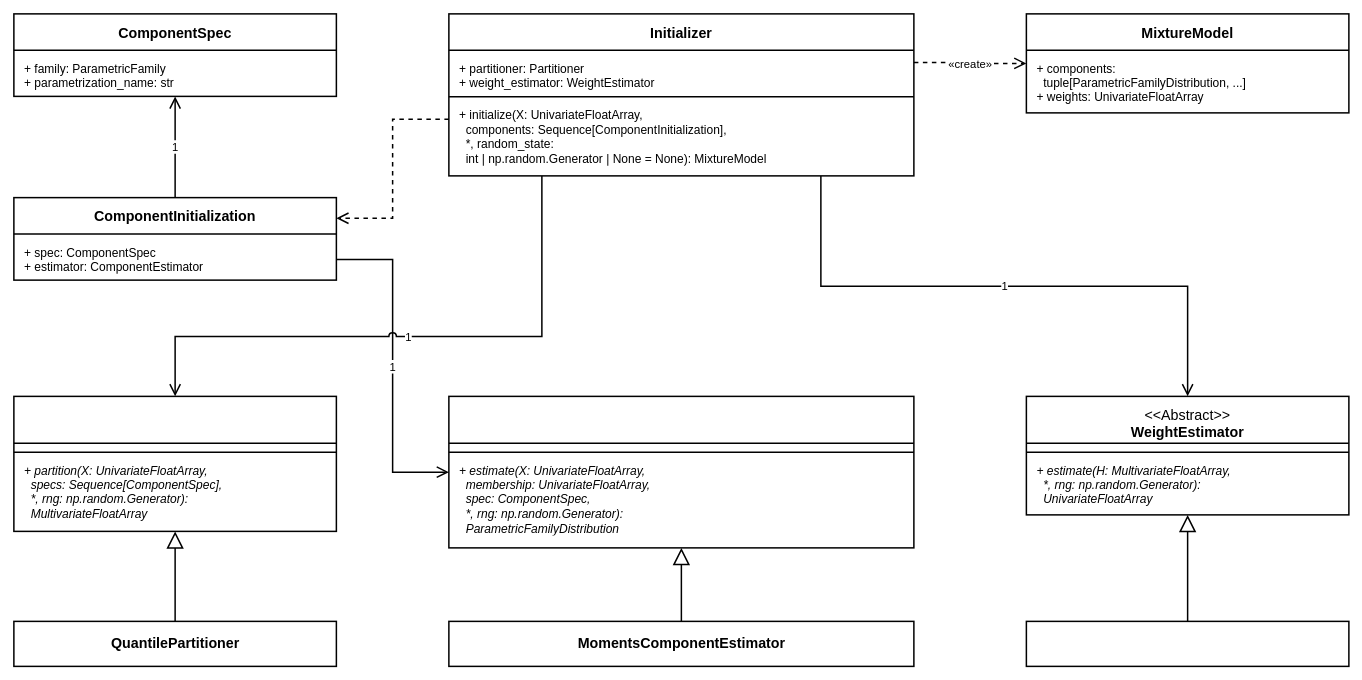
Image size: 1362x680. Some labels were removed from this diagram. The shapes that lost their labels are listed below. From the top down, each one's box as (x1, y1, x2, y2) in pixels, then its label:
(13, 395, 337, 532): <<Abstract>> Partitioner
(448, 395, 914, 548): <<Abstract>> ComponentEstimator
(1025, 620, 1349, 667): MembershipWeightEstimator
